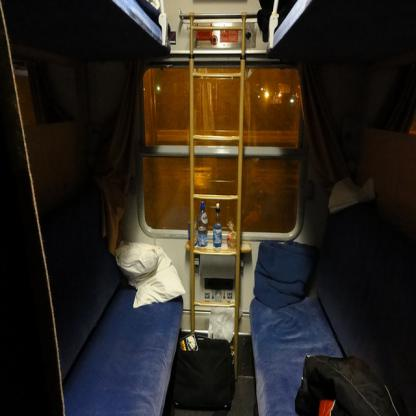backpack: (291, 347, 402, 416)
handbag: (168, 325, 240, 411)
suitcase: (295, 354, 401, 416)
